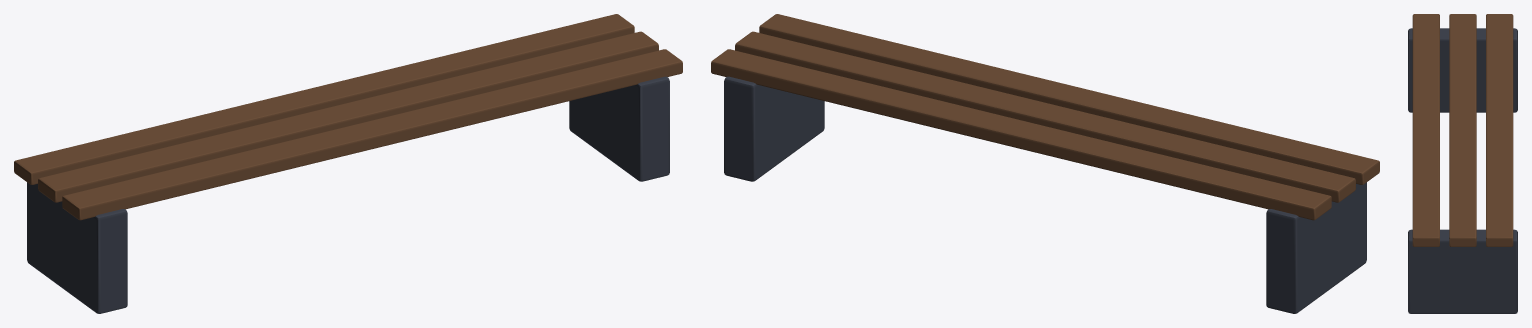
The model's file is mall-bench.glb.
3 views of the same model, side by side, from view 1: azimuth 30°, elevation 25°; view 2: azimuth 150°, elevation 25°; view 3: azimuth 270°, elevation 25° (orthographic). The views are drawn at different scales.
Visible parts, largest first — view 1: part-bench-wood, part-bench-iron; view 2: part-bench-wood, part-bench-iron; view 3: part-bench-wood, part-bench-iron.
Boxes of the visible parts, x1,y1,x2,y2 form: part-bench-wood: (14,14,682,220); part-bench-iron: (27,76,669,313); part-bench-wood: (711,14,1379,220); part-bench-iron: (724,76,1366,313); part-bench-wood: (1412,14,1513,246); part-bench-iron: (1408,28,1517,313).
Bounding box in the file's own units: 58 × 10 × 12.
